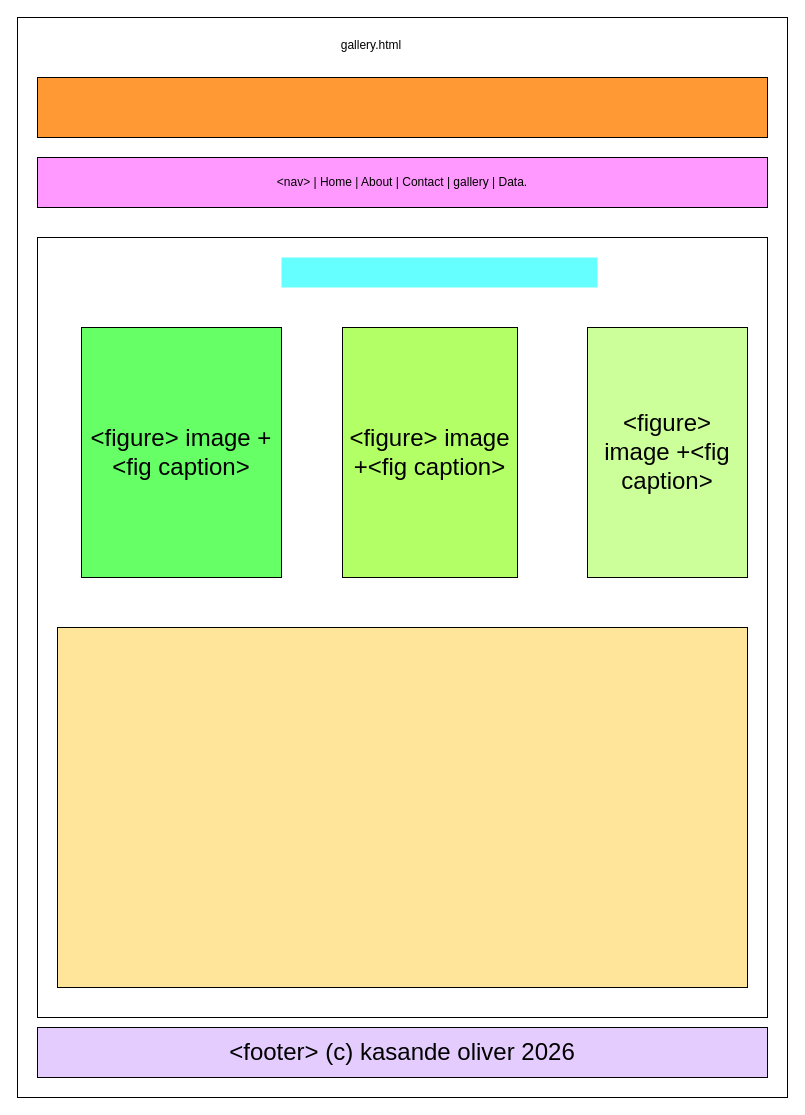
Some shapes in this 805 by 1115 pixel diagram are drawn without their labels. Here are the shapes that lost their labels. From the top down, the centre of each, then its label:
At point (402, 107): "<header> <h1>kasande oliver</p> <p>soft ware engneering student</>".
At point (439, 272): "<main> <section> gallery".
At point (402, 807): "<figure> <video controls> +<fig caption>".
